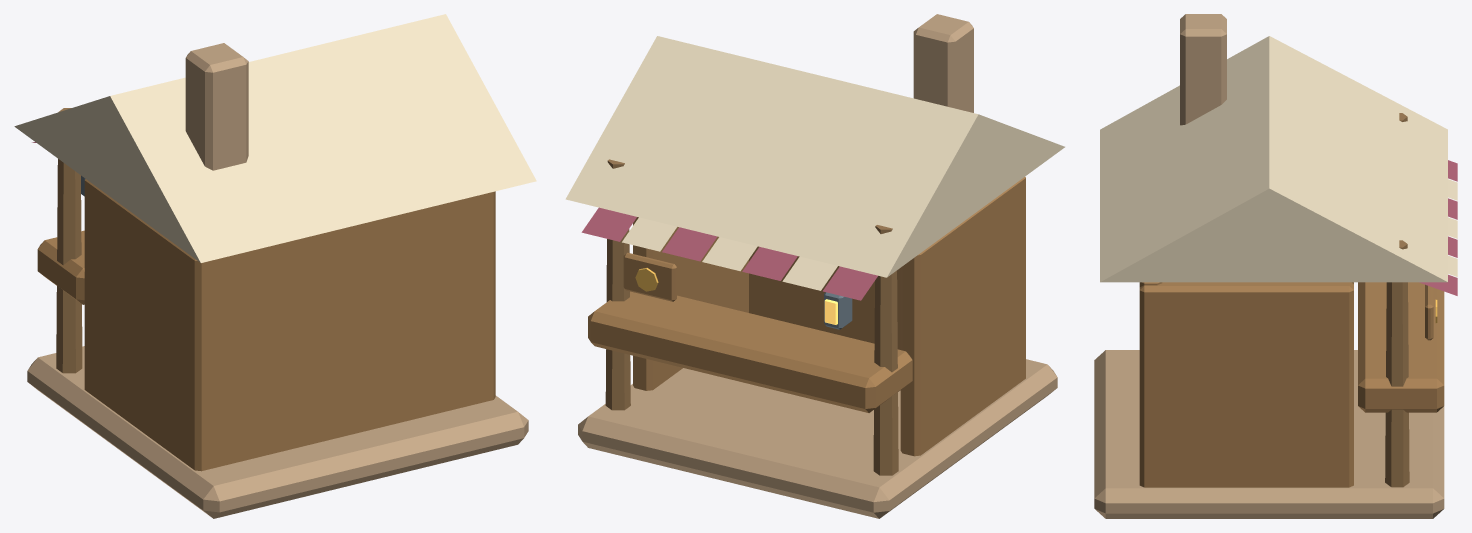
The model's file is loja_mascate.glb.
3 views of the same model, side by side, from view 1: azimuth 30°, elevation 25°; view 2: azimuth 150°, elevation 25°; view 3: azimuth 270°, elevation 25° (orthographic). The views are drawn at different scales.
Parts seen in each view (by area): view 1: deserto_loja_mascate; view 2: deserto_loja_mascate; view 3: deserto_loja_mascate.
Boxes of the visible parts, x1,y1,x2,y2 form: deserto_loja_mascate: (14, 14, 536, 518); deserto_loja_mascate: (565, 14, 1064, 518); deserto_loja_mascate: (1094, 14, 1457, 518).
Size of the model in its own units: 1.92 by 2.26 by 1.93.
